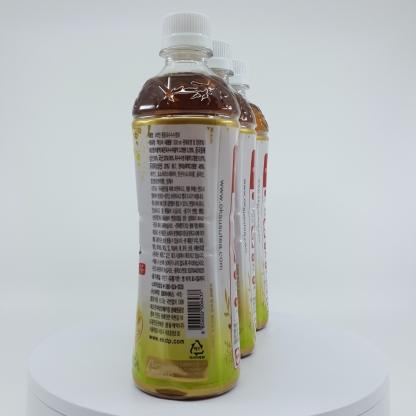---------500ML: (131, 12, 241, 399)
